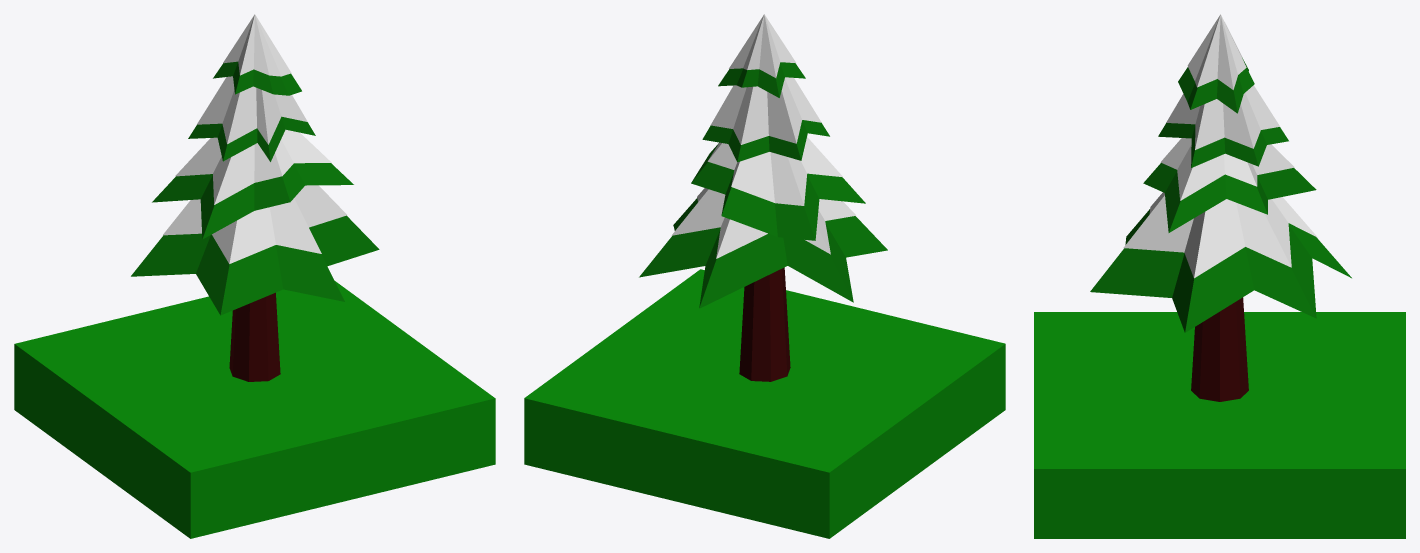
Rendered from ki(yuki)2.fbx.
3 renders of one model, left to right at view 1: azimuth 30°, elevation 25°; view 2: azimuth 150°, elevation 25°; view 3: azimuth 270°, elevation 25°, orthographic. The views are drawn at different scales.
Visible parts, largest first — view 1: pasted__pCube1, pCylinder1, pCylinder5, pCylinder2, pCylinder6, pasted__pCylinder1, pCylinder7, pCylinder8, pCylinder4, pCylinder3; view 2: pasted__pCube1, pCylinder1, pCylinder2, pasted__pCylinder1, pCylinder7, pCylinder6, pCylinder5, pCylinder4, pCylinder8, pCylinder3; view 3: pasted__pCube1, pCylinder1, pCylinder5, pasted__pCylinder1, pCylinder2, pCylinder7, pCylinder6, pCylinder8, pCylinder4, pCylinder3.
Part boxes in pixels (x1,y1,x2,y2): pasted__pCube1: [14, 281, 495, 538]; pCylinder1: [131, 215, 379, 315]; pCylinder5: [163, 185, 347, 263]; pCylinder2: [152, 163, 353, 239]; pCylinder6: [175, 129, 331, 204]; pasted__pCylinder1: [229, 292, 280, 381]; pCylinder7: [197, 76, 307, 144]; pCylinder8: [223, 14, 291, 76]; pCylinder4: [188, 116, 315, 161]; pCylinder3: [213, 61, 301, 95]; pasted__pCube1: [524, 269, 1005, 538]; pCylinder1: [639, 198, 887, 308]; pCylinder2: [691, 143, 865, 240]; pasted__pCylinder1: [739, 267, 790, 381]; pCylinder7: [711, 77, 821, 144]; pCylinder6: [707, 137, 842, 205]; pCylinder5: [671, 188, 855, 258]; pCylinder4: [702, 120, 829, 162]; pCylinder8: [729, 14, 796, 77]; pCylinder3: [718, 62, 805, 97]; pasted__pCube1: [1034, 312, 1405, 538]; pCylinder1: [1090, 209, 1351, 332]; pCylinder5: [1123, 192, 1317, 278]; pasted__pCylinder1: [1191, 297, 1248, 401]; pCylinder2: [1143, 163, 1316, 232]; pCylinder7: [1166, 85, 1279, 149]; pCylinder6: [1160, 138, 1294, 200]; pCylinder8: [1187, 14, 1246, 89]; pCylinder4: [1158, 123, 1288, 167]; pCylinder3: [1178, 57, 1254, 113].
Size of the model in its own units: 1.91 by 2.53 by 1.91.
